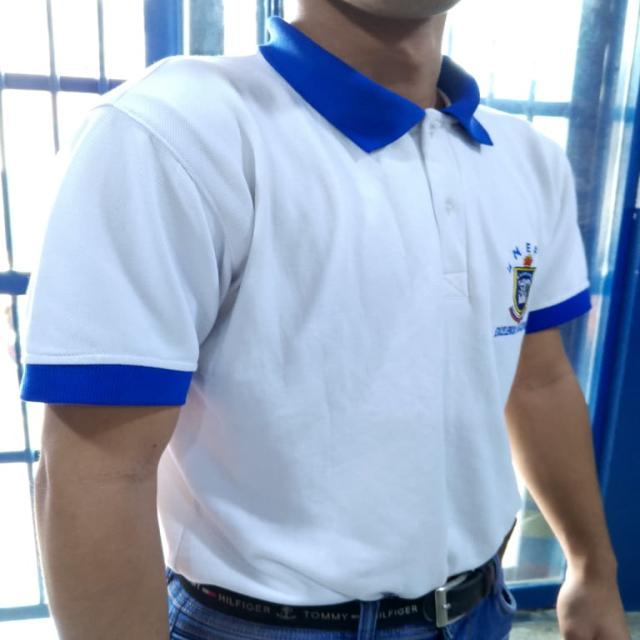uniforme_superior: (18, 15, 597, 608)
